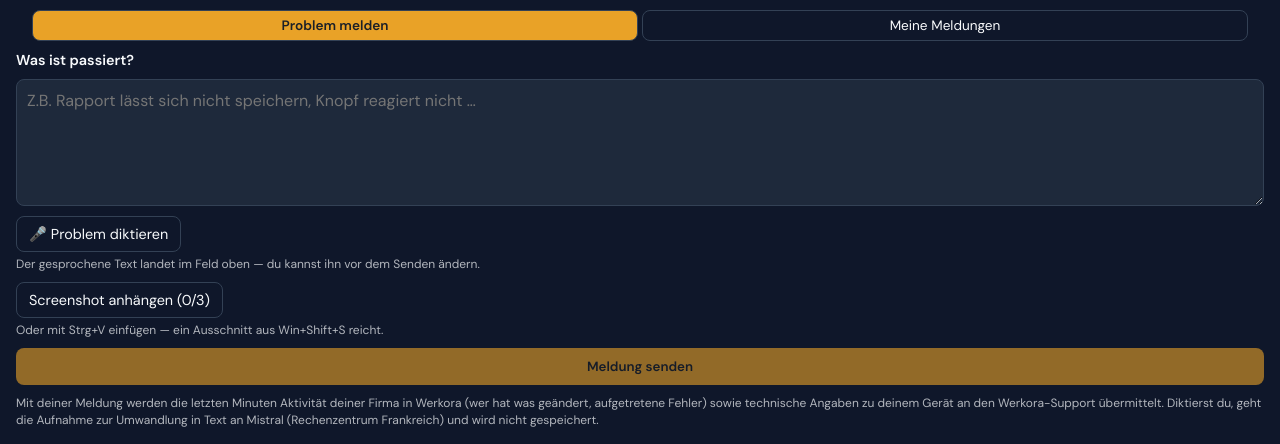
Test: SupportForm — Diktat › verwirft die Aufnahme, ohne sie zu transkribieren
Click the button "🎤 Problem diktieren" at (99, 234), box [16, 216, 181, 252]
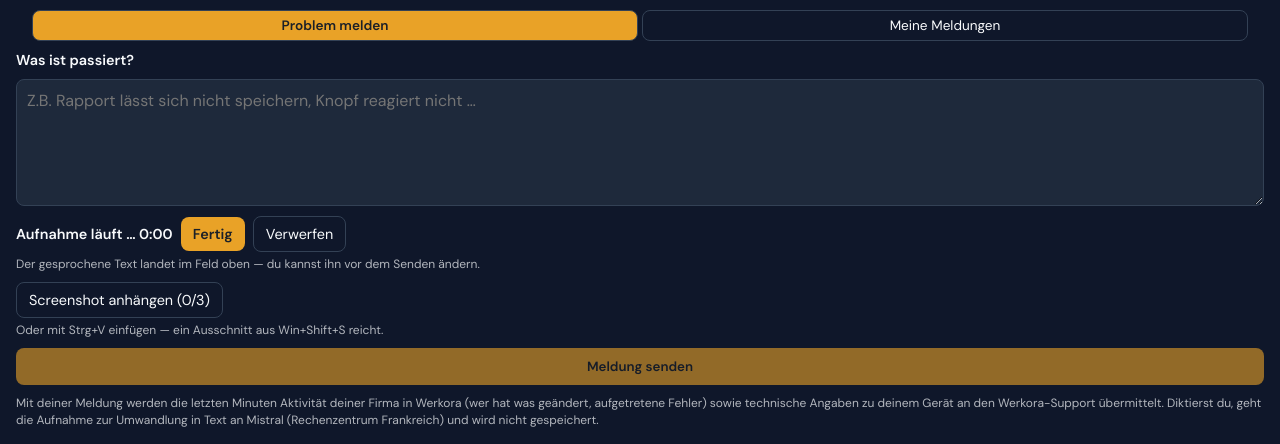
Now the text "Aufnahme läuft" is shown, box [16, 225, 123, 243]
Click the button "Verwerfen" at (299, 234), box [253, 216, 346, 252]
Wait 600 ms
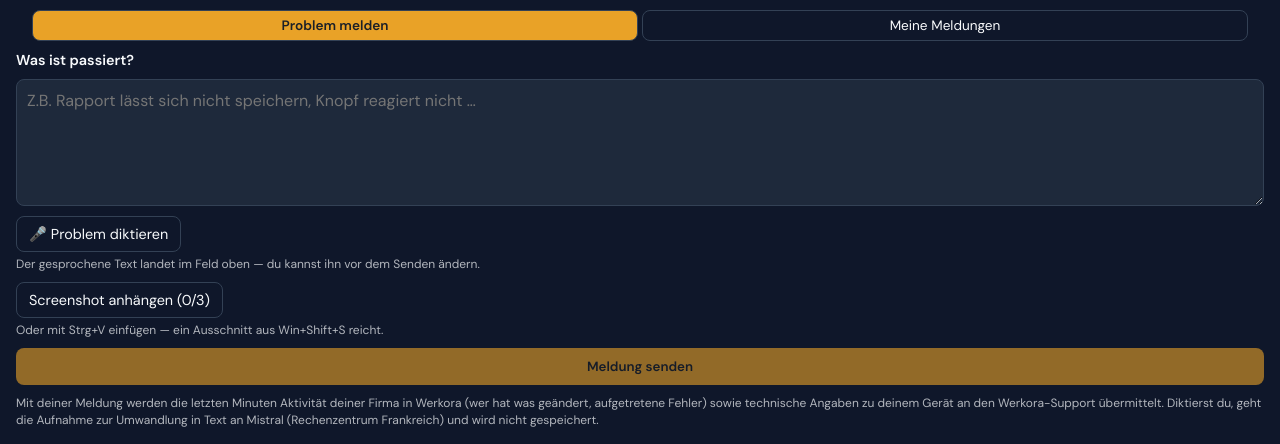
Expected: the text box labelled "Was ist passiert?" is empty, [16, 79, 1264, 206]
Now the text "Aufnahme läuft" is gone
